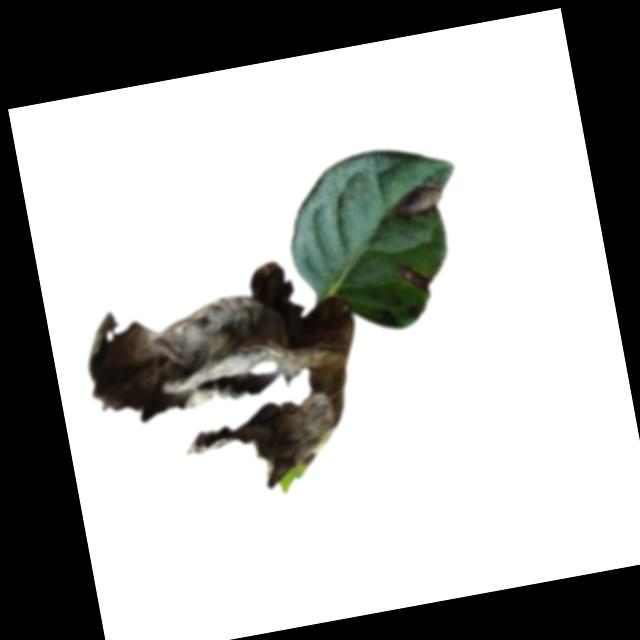Early_blight: (79, 249, 384, 516), (384, 177, 453, 221), (396, 257, 435, 297)
